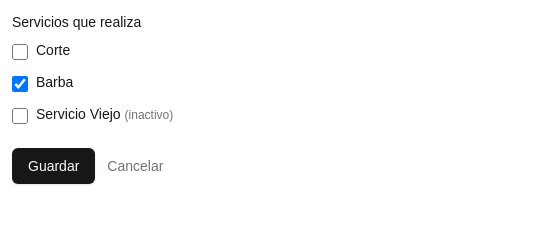
Test: BarberServicesForm - rejection › should_return_the_submitted_selection_not_the_stored_one
This screenshot has width=542, height=246.
Click the checkbox labelled "Barba".
click(20, 84)  # box [12,76,28,92]
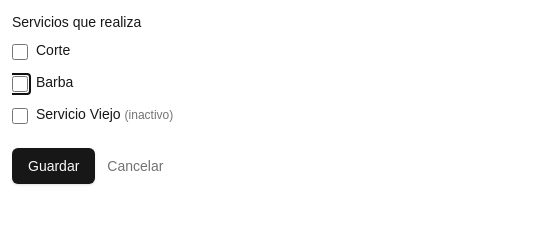
Click the checkbox labelled "Corte".
click(20, 52)  # box [12,44,28,60]
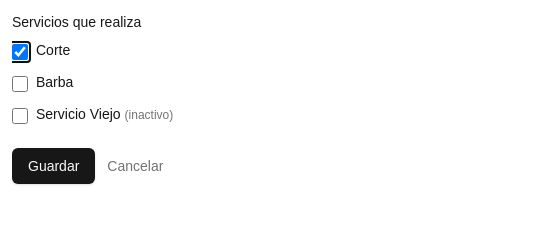
Click the button "Guardar".
click(54, 166)  # box [12,148,95,184]
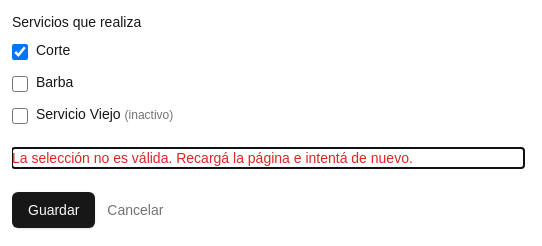
Now the checkbox labelled "Corte" is checked, box [12,44,28,60]
Now the checkbox labelled "Barba" is not checked, box [12,76,28,92]
Now the message "La selección no es válida. Recargá la página e intentá de nuevo." is shown, box [12,150,413,166]
